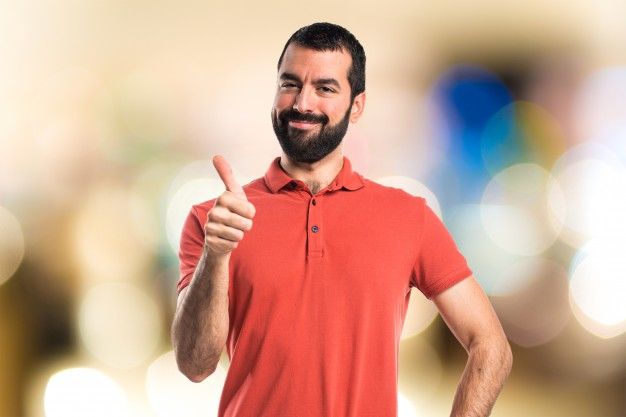thumbsup: (204, 155, 256, 249)
